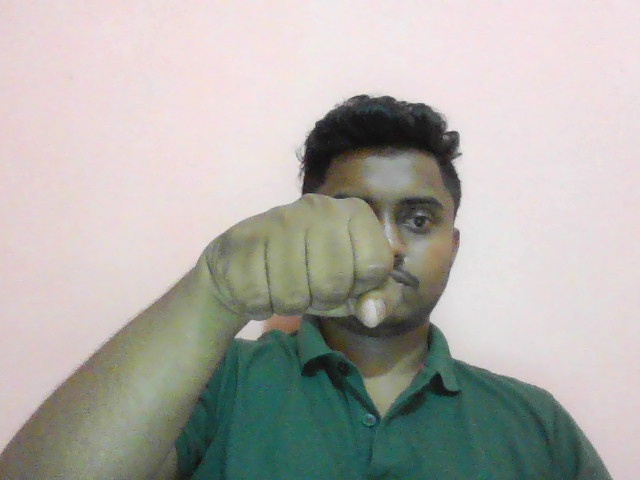Yes: (189, 187, 407, 343)
